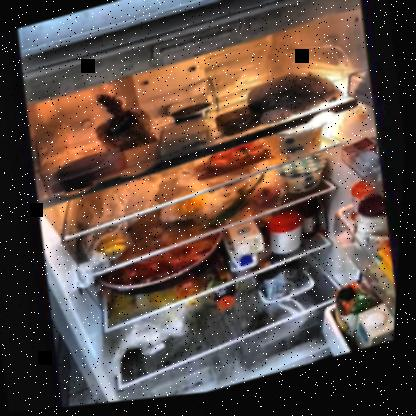broccoli: (260, 267, 316, 308)
butter: (214, 108, 265, 141)
carrot: (195, 144, 274, 184)
cheese: (157, 120, 211, 152)
green_chillies: (195, 198, 253, 233)
lemon: (98, 231, 136, 260), (176, 199, 211, 224)
milk: (224, 225, 269, 277), (360, 308, 399, 357)
salami: (57, 153, 113, 179)
tomato: (252, 188, 285, 215)
yoghurt: (279, 160, 334, 202), (278, 125, 331, 166), (172, 104, 213, 129)
